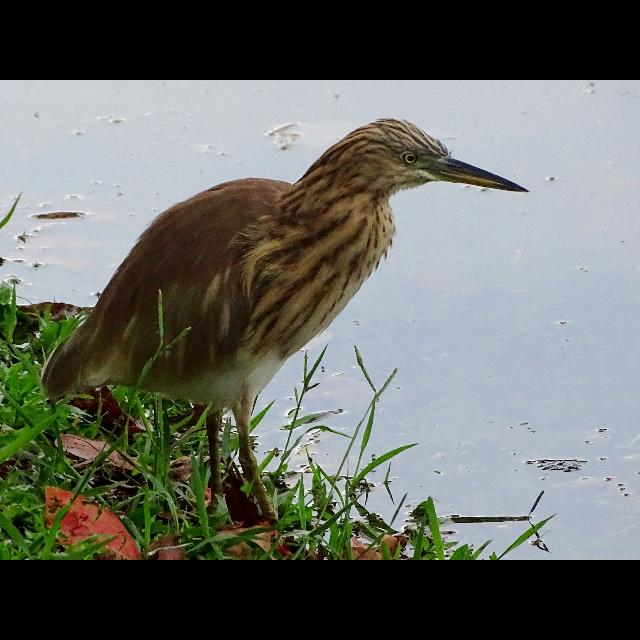heron: (38, 108, 552, 500)
